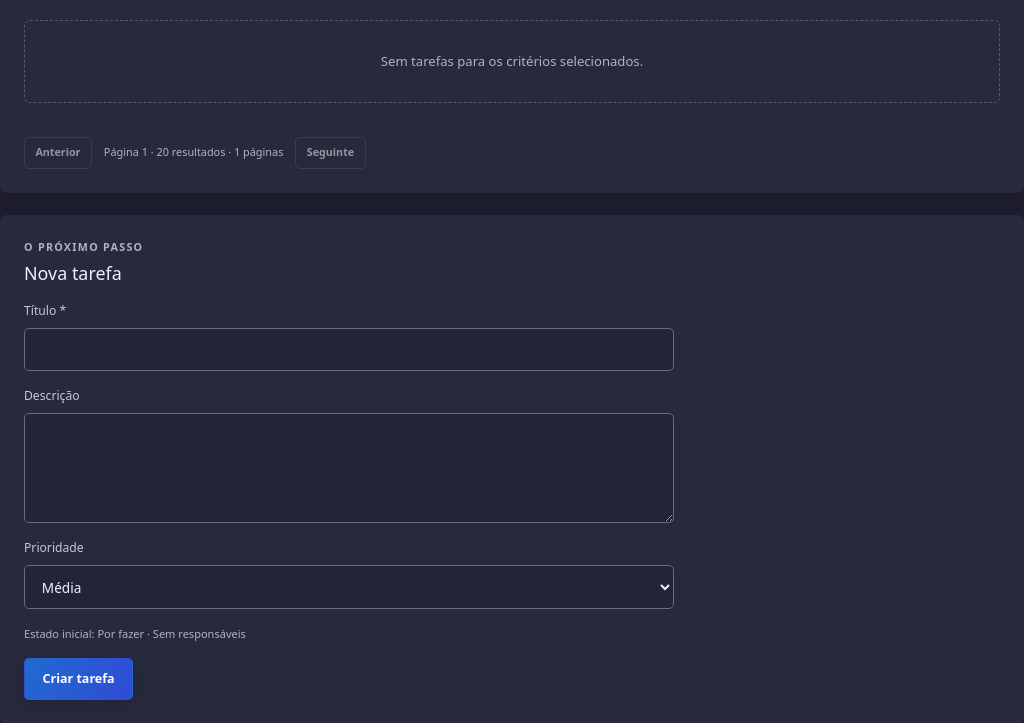
Scenario: Criação de tarefas › apresenta a nova tarefa na segunda página quando a primeira está cheia
(page scrolled)
Type "Nova tarefa real" into the field labelled "Título *".
click(349, 350); type("Nova tarefa real")  # box [24,328,674,371]
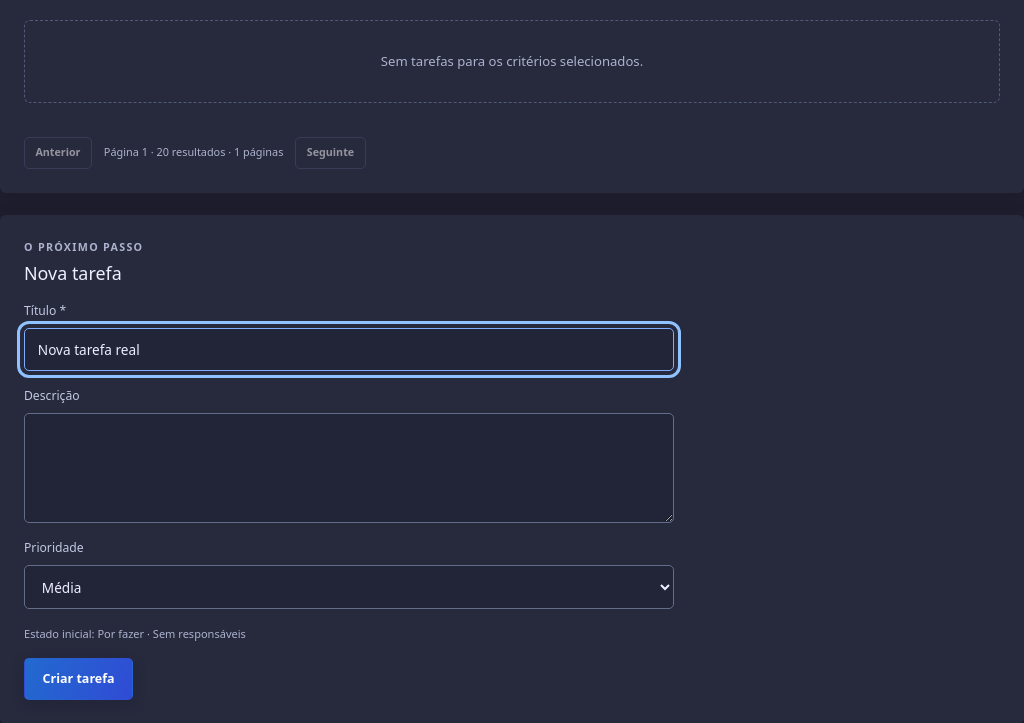
Click the button "Criar tarefa".
click(79, 679)  # box [24,658,133,700]
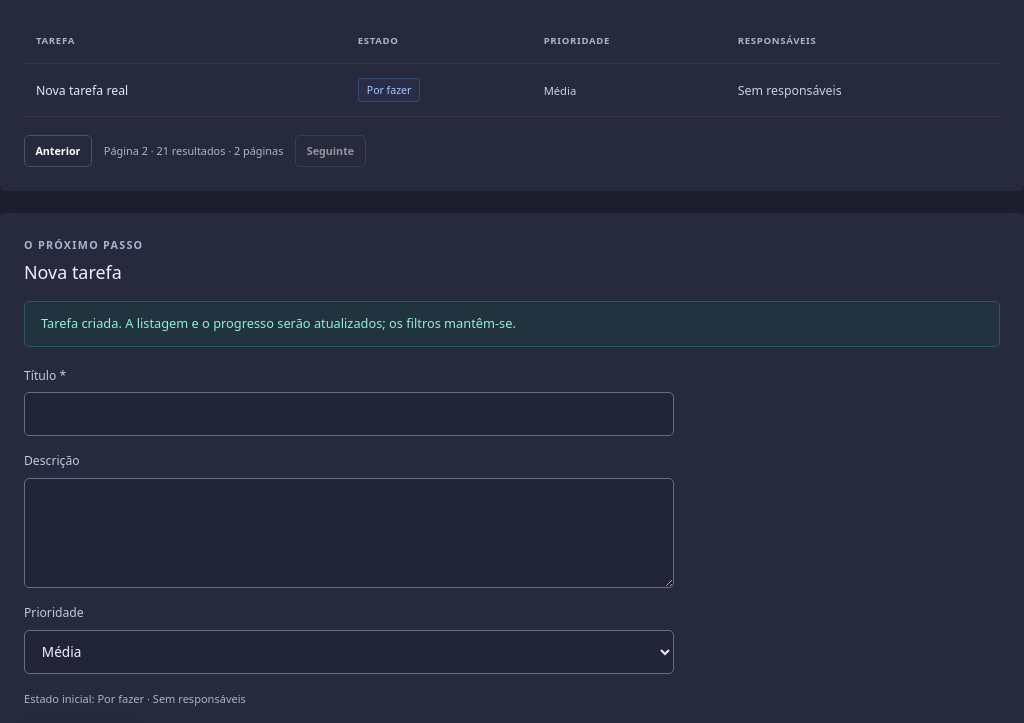
expect the link "Nova tarefa real" is shown: met, box [36,82,128,99]
expect the text "Página 2 · 21 resultados · 2 páginas" is shown: met, box [104,143,283,160]
